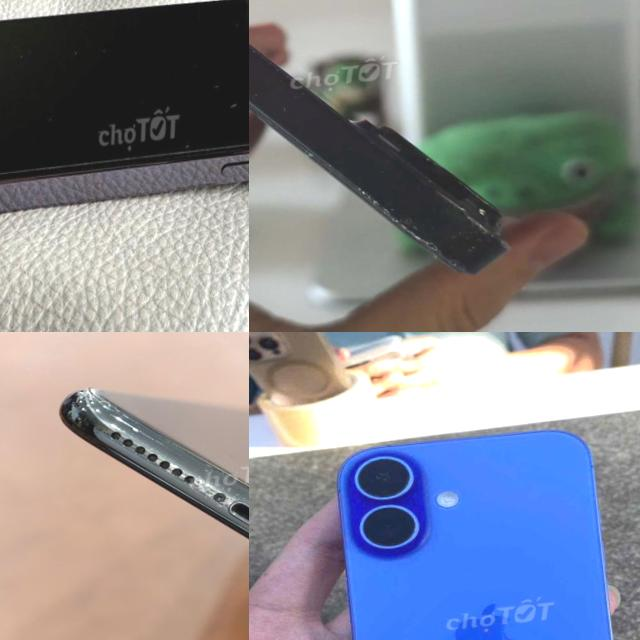gen_14: (249, 0, 518, 318), (0, 0, 249, 245)
gen_16: (337, 430, 613, 640)
gen_x_xs: (38, 332, 249, 640)
scratch: (66, 376, 244, 534), (330, 164, 518, 296), (249, 12, 281, 70), (121, 134, 193, 154), (225, 94, 240, 120)
